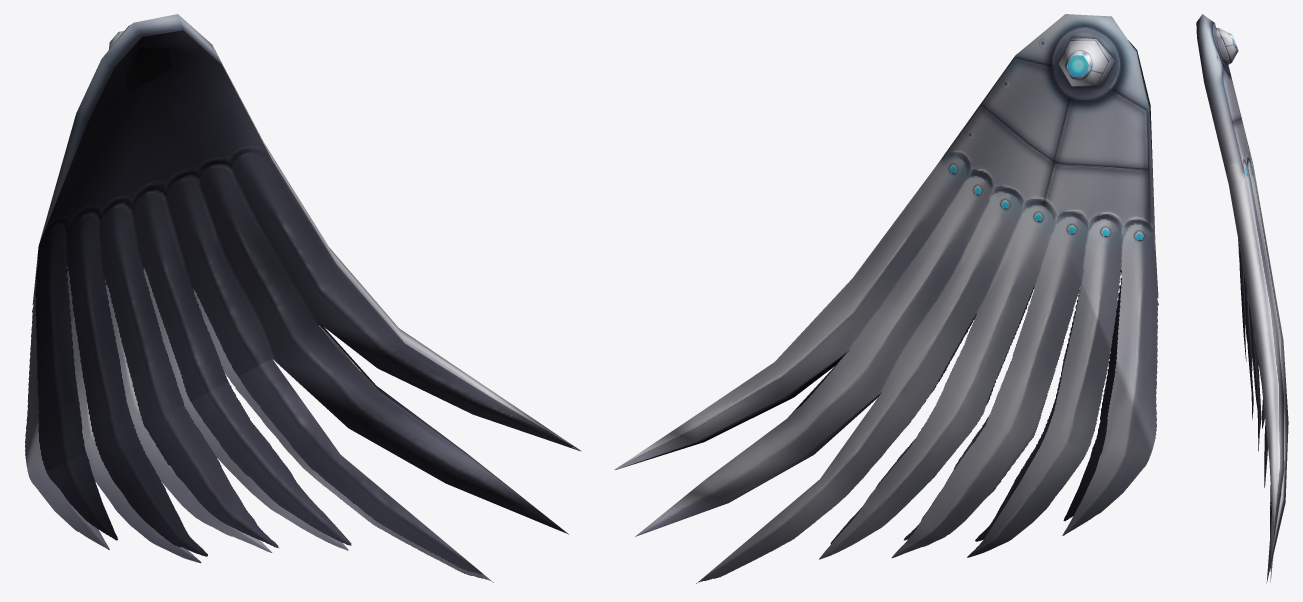
3 views of the same model, side by side, from view 1: azimuth 30°, elevation 25°; view 2: azimuth 150°, elevation 25°; view 3: azimuth 270°, elevation 25° (orthographic). The views are drawn at different scales.
Parts seen in each view (by area): view 1: 3_Z_20; view 2: 3_Z_20; view 3: 3_Z_20.
Part boxes in pixels (box(x1,y1,x2,y2)): 3_Z_20: box(25, 14, 580, 582); 3_Z_20: box(614, 14, 1158, 583); 3_Z_20: box(1196, 14, 1288, 582).
Size of the model in its own units: 161 by 34.25 by 182.
